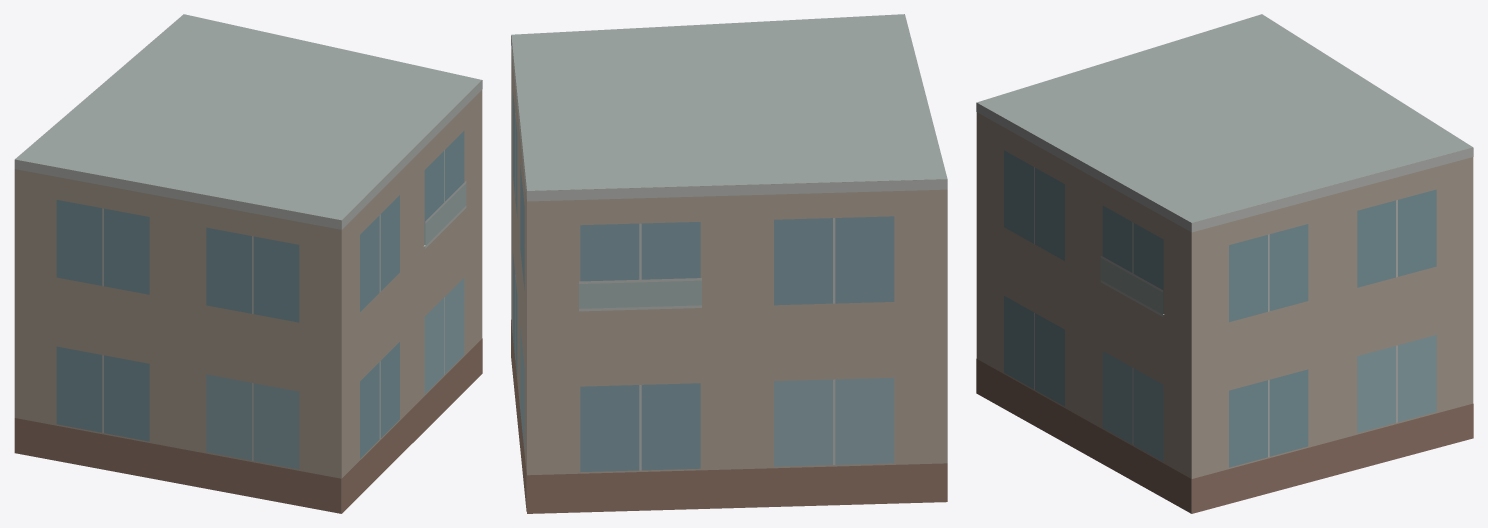
The model's file is survey-upis-32582627.glb.
3 renders of one model, left to right at view 1: azimuth 30°, elevation 25°; view 2: azimuth 150°, elevation 25°; view 3: azimuth 270°, elevation 25°, orthographic. The views are drawn at different scales.
Visible parts, largest first — view 1: survey-upis-32582627.tmp; view 2: survey-upis-32582627.tmp; view 3: survey-upis-32582627.tmp.
Boxes of the visible parts, box(x1,y1,x2,y2) form: survey-upis-32582627.tmp: box(14, 14, 482, 513); survey-upis-32582627.tmp: box(511, 14, 947, 513); survey-upis-32582627.tmp: box(976, 14, 1473, 513).
Bounding box in the file's own units: 11.56 × 7.5 × 11.62.
